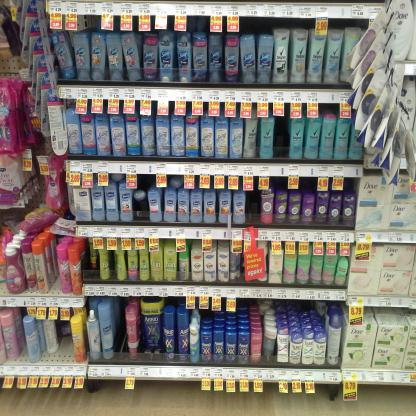Void: (56, 321, 71, 364), (114, 304, 126, 354), (135, 184, 147, 222), (248, 188, 259, 222), (244, 20, 270, 34), (277, 118, 286, 156), (302, 179, 313, 191), (346, 179, 352, 189)
